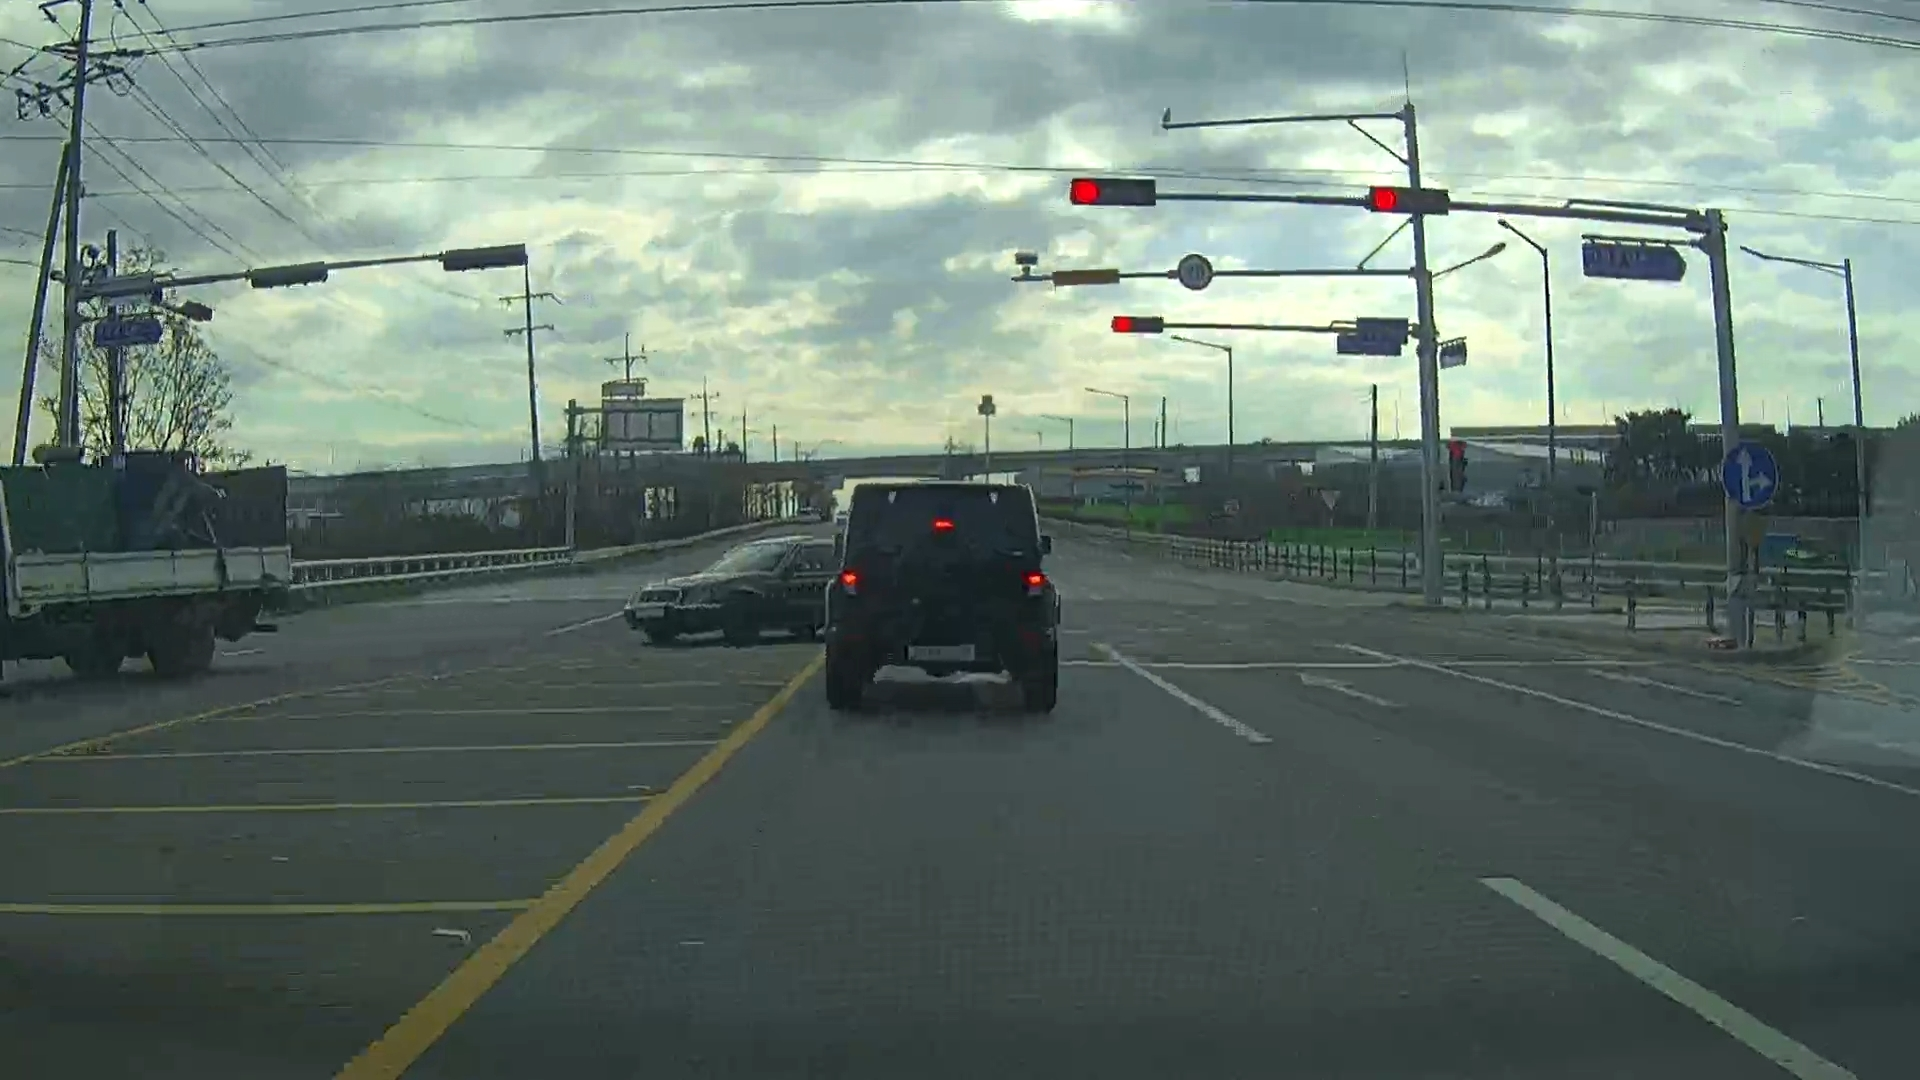trafficLight: (1068, 171, 1160, 214), (1365, 185, 1455, 215), (1110, 315, 1166, 338)
trafficSignCircle: (1721, 440, 1778, 506), (1178, 255, 1215, 294)
